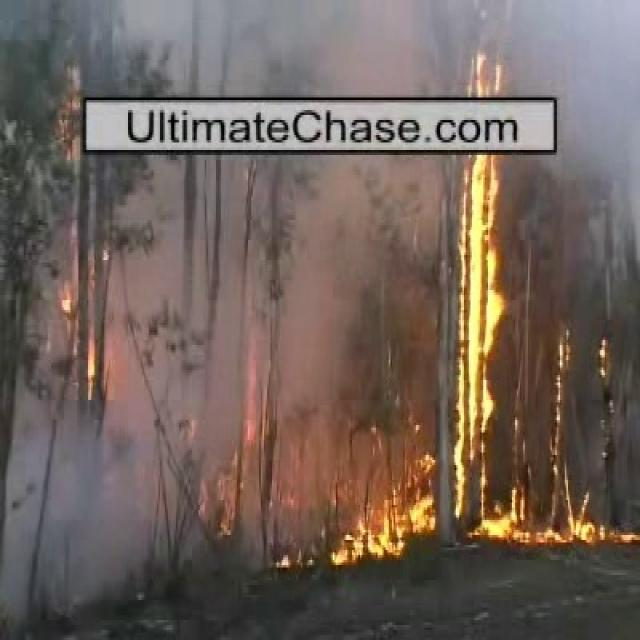fire: (456, 144, 506, 508), (319, 474, 435, 566), (479, 514, 638, 547)
smoke: (12, 394, 146, 588)
